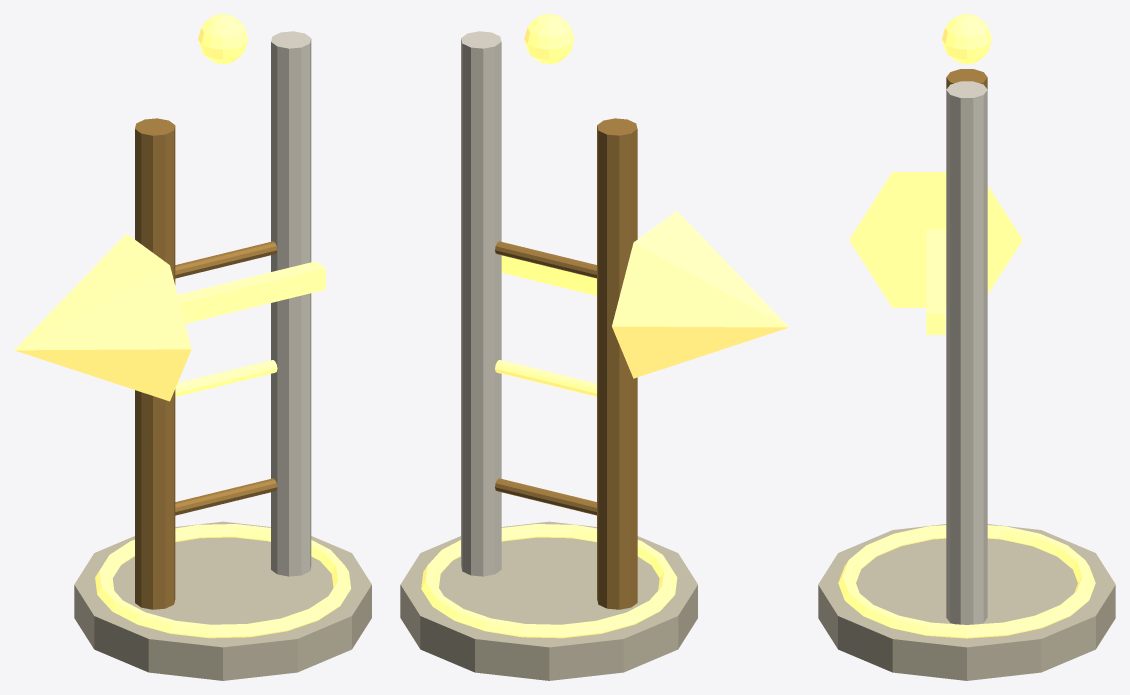
File: runtime.glb
3 renders of one model, left to right at view 1: azimuth 30°, elevation 25°; view 2: azimuth 150°, elevation 25°; view 3: azimuth 270°, elevation 25°, orthographic.
Parts seen in each view (by area): view 1: aetherion-orbit-beacon-v08_base_nocol, aetherion-orbit-beacon-v08_right_mast_nocol, aetherion-orbit-beacon-v08_direction_head_nocol, aetherion-orbit-beacon-v08_left_mast_nocol, aetherion-orbit-beacon-v08_base_orbit_nocol, aetherion-orbit-beacon-v08_direction_bar_nocol, aetherion-orbit-beacon-v08_zenith_nocol, aetherion-orbit-beacon-v08_rung_0_nocol, aetherion-orbit-beacon-v08_rung_2_nocol, aetherion-orbit-beacon-v08_rung_1_nocol; view 2: aetherion-orbit-beacon-v08_base_nocol, aetherion-orbit-beacon-v08_right_mast_nocol, aetherion-orbit-beacon-v08_left_mast_nocol, aetherion-orbit-beacon-v08_direction_head_nocol, aetherion-orbit-beacon-v08_base_orbit_nocol, aetherion-orbit-beacon-v08_zenith_nocol, aetherion-orbit-beacon-v08_direction_bar_nocol, aetherion-orbit-beacon-v08_rung_2_nocol, aetherion-orbit-beacon-v08_rung_0_nocol, aetherion-orbit-beacon-v08_rung_1_nocol; view 3: aetherion-orbit-beacon-v08_base_nocol, aetherion-orbit-beacon-v08_right_mast_nocol, aetherion-orbit-beacon-v08_direction_head_nocol, aetherion-orbit-beacon-v08_base_orbit_nocol, aetherion-orbit-beacon-v08_direction_bar_nocol, aetherion-orbit-beacon-v08_zenith_nocol, aetherion-orbit-beacon-v08_left_mast_nocol.
Part boxes in pixels (x1=…): aetherion-orbit-beacon-v08_base_nocol: x1=74, y1=521, x2=371, y2=680; aetherion-orbit-beacon-v08_right_mast_nocol: x1=271, y1=31, x2=311, y2=576; aetherion-orbit-beacon-v08_direction_head_nocol: x1=14, y1=233, x2=191, y2=401; aetherion-orbit-beacon-v08_left_mast_nocol: x1=135, y1=118, x2=175, y2=609; aetherion-orbit-beacon-v08_base_orbit_nocol: x1=95, y1=524, x2=350, y2=638; aetherion-orbit-beacon-v08_direction_bar_nocol: x1=177, y1=261, x2=325, y2=323; aetherion-orbit-beacon-v08_zenith_nocol: x1=198, y1=14, x2=248, y2=63; aetherion-orbit-beacon-v08_rung_0_nocol: x1=175, y1=478, x2=277, y2=515; aetherion-orbit-beacon-v08_rung_2_nocol: x1=175, y1=241, x2=277, y2=278; aetherion-orbit-beacon-v08_rung_1_nocol: x1=175, y1=360, x2=277, y2=396; aetherion-orbit-beacon-v08_base_nocol: x1=400, y1=521, x2=697, y2=680; aetherion-orbit-beacon-v08_right_mast_nocol: x1=461, y1=31, x2=501, y2=576; aetherion-orbit-beacon-v08_left_mast_nocol: x1=597, y1=118, x2=637, y2=609; aetherion-orbit-beacon-v08_direction_head_nocol: x1=612, y1=211, x2=788, y2=378; aetherion-orbit-beacon-v08_base_orbit_nocol: x1=421, y1=524, x2=677, y2=638; aetherion-orbit-beacon-v08_zenith_nocol: x1=524, y1=14, x2=574, y2=63; aetherion-orbit-beacon-v08_direction_bar_nocol: x1=501, y1=255, x2=596, y2=295; aetherion-orbit-beacon-v08_rung_2_nocol: x1=495, y1=241, x2=596, y2=278; aetherion-orbit-beacon-v08_rung_0_nocol: x1=495, y1=478, x2=596, y2=515; aetherion-orbit-beacon-v08_rung_1_nocol: x1=495, y1=360, x2=596, y2=396; aetherion-orbit-beacon-v08_base_nocol: x1=818, y1=524, x2=1115, y2=680; aetherion-orbit-beacon-v08_right_mast_nocol: x1=946, y1=81, x2=987, y2=624; aetherion-orbit-beacon-v08_direction_head_nocol: x1=849, y1=172, x2=1022, y2=307; aetherion-orbit-beacon-v08_base_orbit_nocol: x1=838, y1=525, x2=1095, y2=638; aetherion-orbit-beacon-v08_direction_bar_nocol: x1=926, y1=229, x2=945, y2=334; aetherion-orbit-beacon-v08_zenith_nocol: x1=942, y1=14, x2=991, y2=63; aetherion-orbit-beacon-v08_left_mast_nocol: x1=946, y1=69, x2=987, y2=89.
Bounding box in the file's own units: 5.51 × 8.96 × 4.02.
